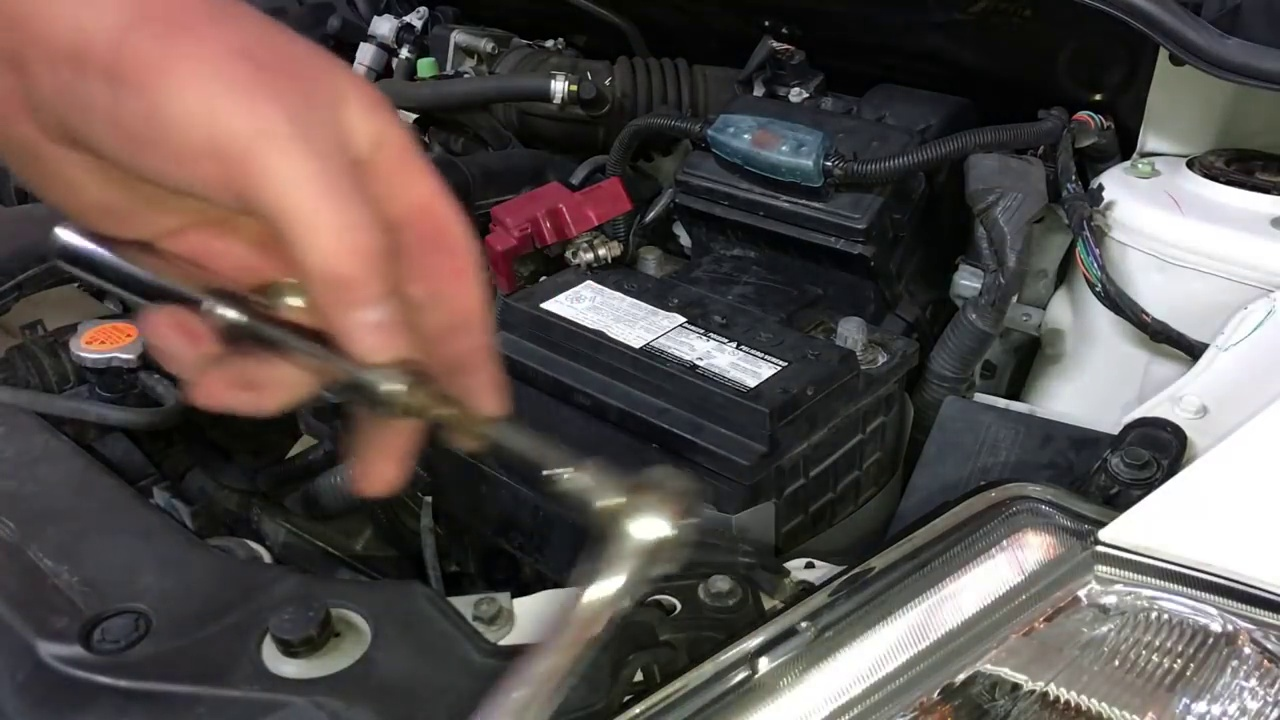battery: (497, 203, 894, 438)
neg_disconnected: (791, 293, 916, 380)
pos_disconnected: (545, 170, 686, 297)
